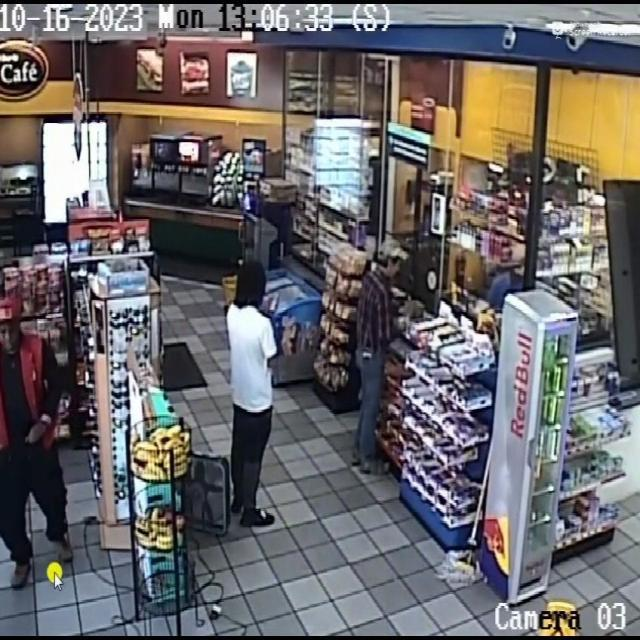normal: (206, 244, 288, 543), (0, 288, 80, 592), (349, 219, 414, 482)
